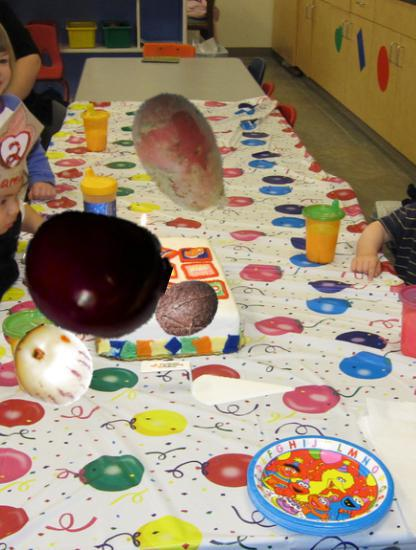Cherry: (21, 202, 168, 349)
Cocos: (153, 274, 221, 342)
Pepino: (11, 324, 95, 408)
Potato: (112, 88, 248, 224)
